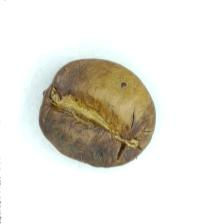NG: (44, 83, 142, 167)
